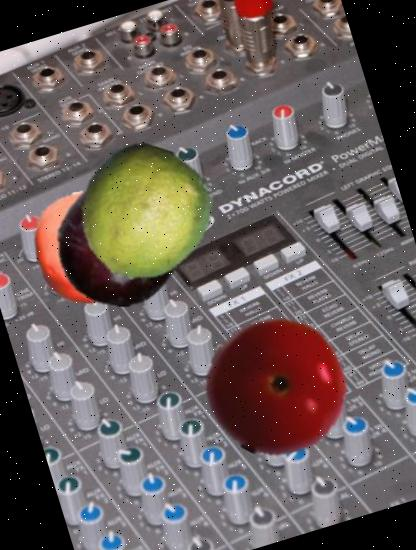Clementine: (13, 177, 156, 319)
Limes: (61, 129, 228, 296)
Plum: (37, 162, 198, 323)
Tomato: (189, 298, 364, 473)
